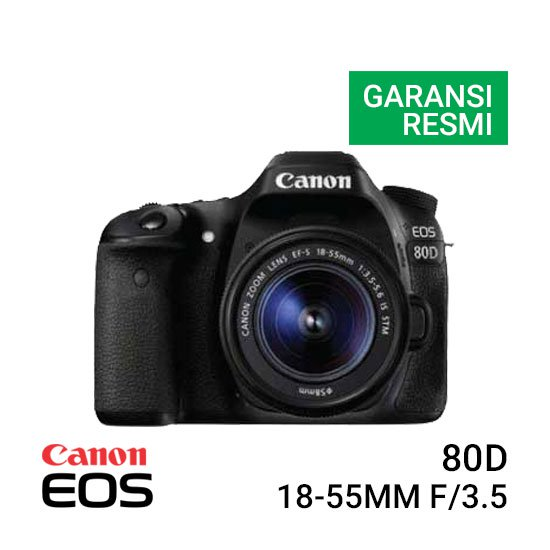kamera: (85, 144, 456, 436)
